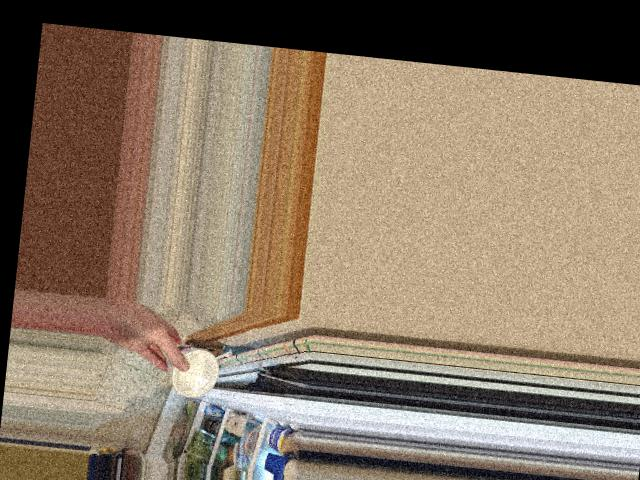cotage: (169, 339, 226, 396)
